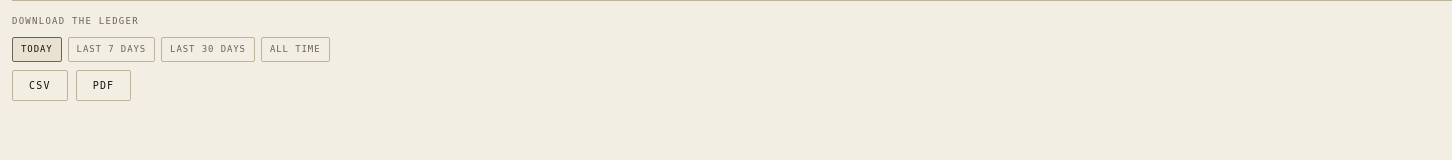
Test: with a ledger store reachable › falls back rather than exporting an empty file when the store has nothing
Click the button "CSV": point(40, 86) 12,70 -> 68,101
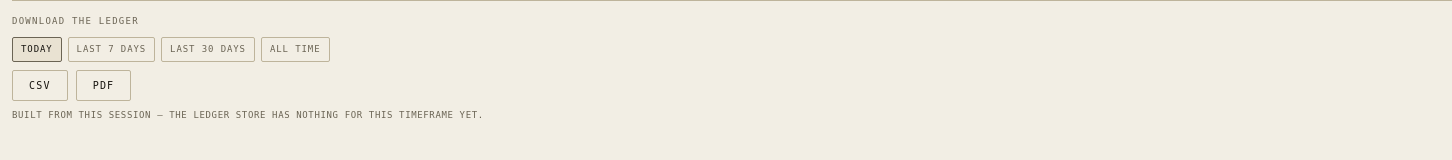
expect the message shows "NOTHING FOR THIS TIMEFRAME YET": met, box 12,110 -> 484,120
